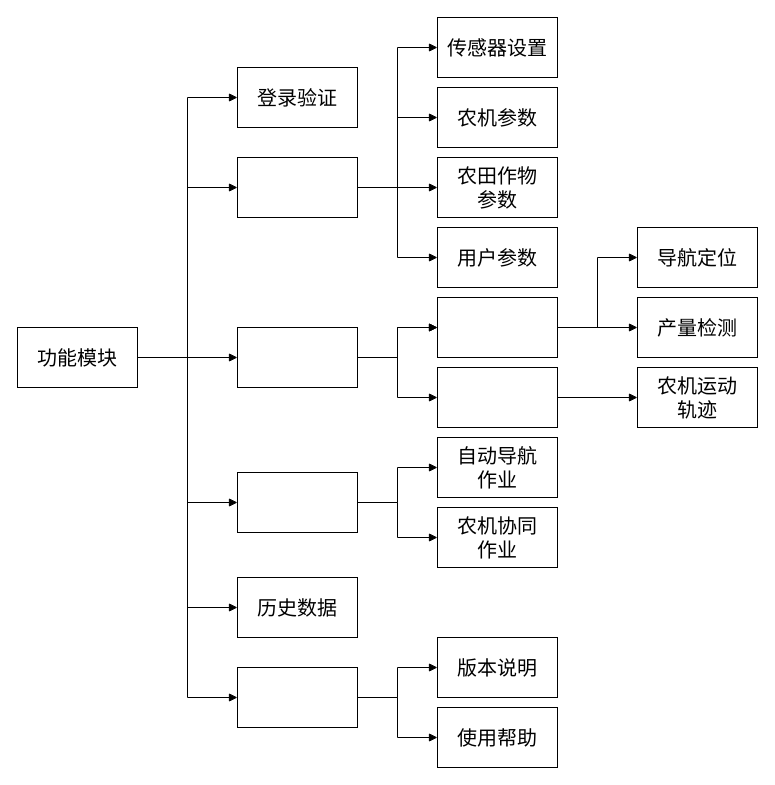
This 775x785 diagram has some shape labels left out. Here are the shapes that lost their labels. From the top down, the centre of each, then its label:
At [297,187]: "信息设置".
At [497,327]: "数据显示".
At [297,357]: "作业监控".
At [497,397]: "图形显示".
At [297,502]: "农机控制".
At [297,697]: "帮助说明".
